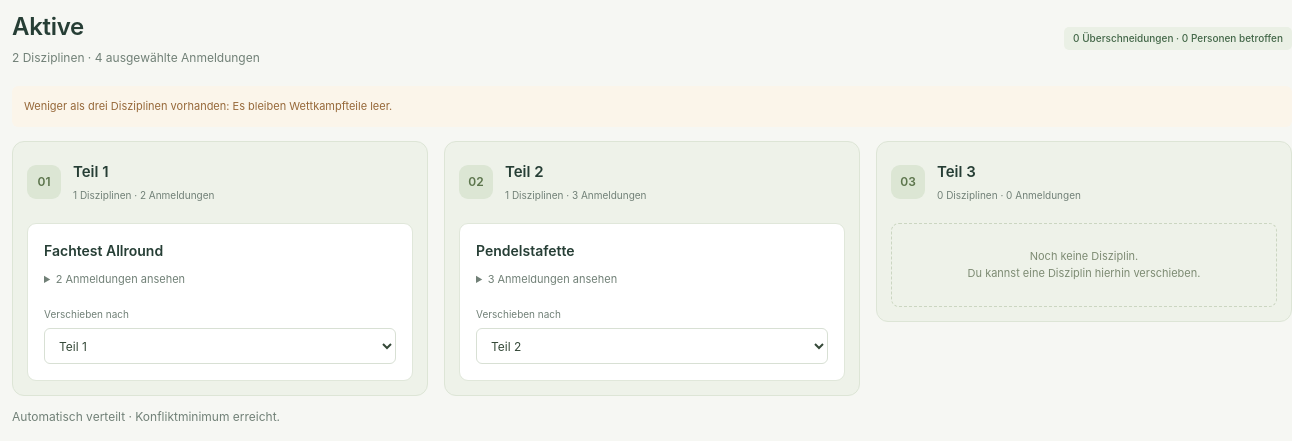
Test: retains focus after moving a discipline between columns and exposes the updated value
Step 1. Select "Teil 3" in the dropdown named "Fachtest Allround · Aktive · Wettkampfteil" → (220, 346), box top-left (44, 328), bottom-right (396, 364)
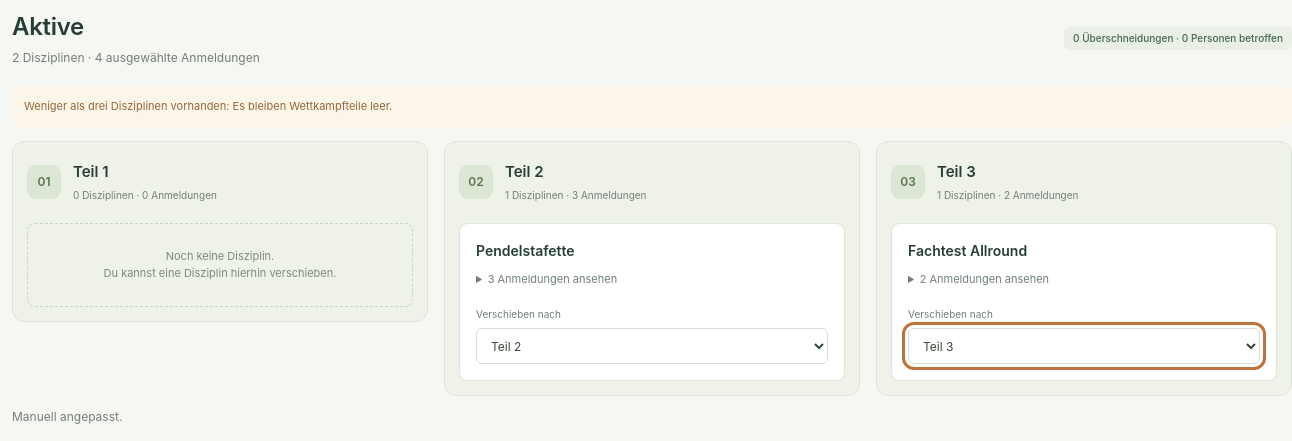
Expected: the dropdown named "Fachtest Allround · Aktive · Wettkampfteil" shows "Teil 3", top-left (908, 328), bottom-right (1260, 364)
